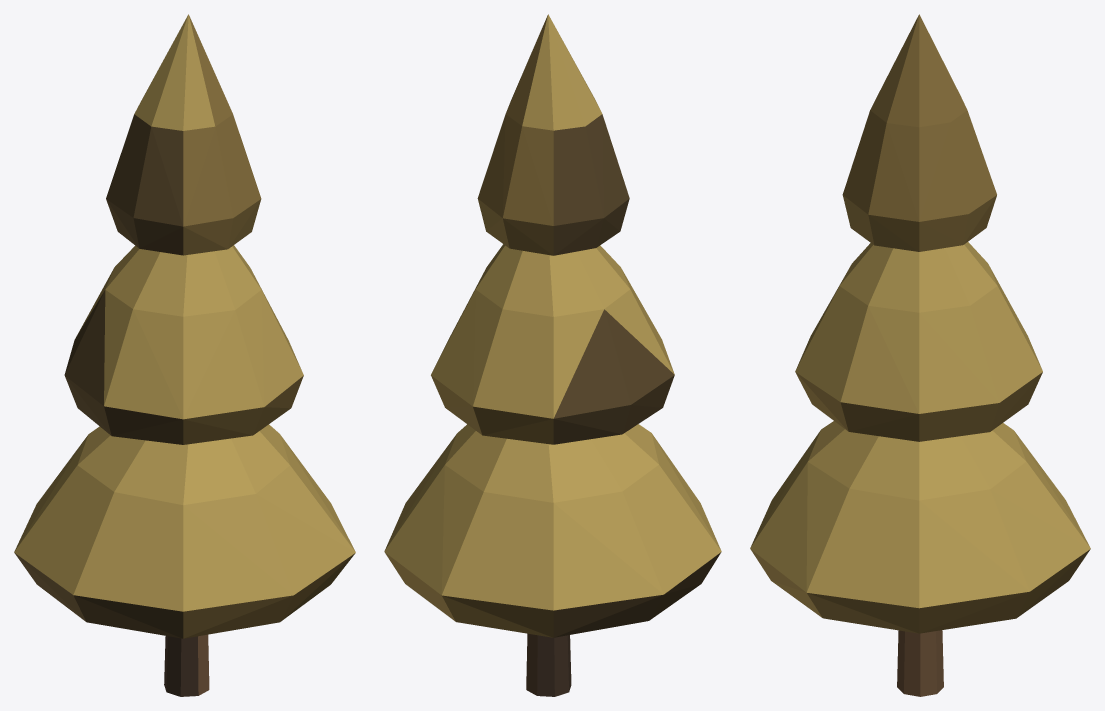
The model's file is TW_TREE_TIERED_SLIM_A_LOD0.glb.
3 renders of one model, left to right at view 1: azimuth 30°, elevation 25°; view 2: azimuth 150°, elevation 25°; view 3: azimuth 270°, elevation 25°, orthographic.
Parts seen in each view (by area): view 1: TW_TREE_TIERED_SLIM_A_LOD0; view 2: TW_TREE_TIERED_SLIM_A_LOD0; view 3: TW_TREE_TIERED_SLIM_A_LOD0.
Boxes of the visible parts, left/top/right/bottom form: TW_TREE_TIERED_SLIM_A_LOD0: left=14, top=14, right=355, bottom=696; TW_TREE_TIERED_SLIM_A_LOD0: left=384, top=14, right=721, bottom=696; TW_TREE_TIERED_SLIM_A_LOD0: left=750, top=14, right=1090, bottom=696.
Size of the model in its own units: 1.7 by 3.8 by 1.74.
Materials: 1 (1 with a texture image).
